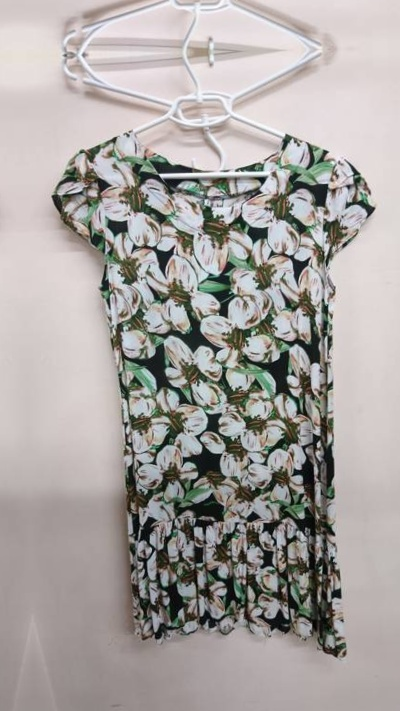Dress: (55, 97, 388, 685), (39, 0, 372, 6)
